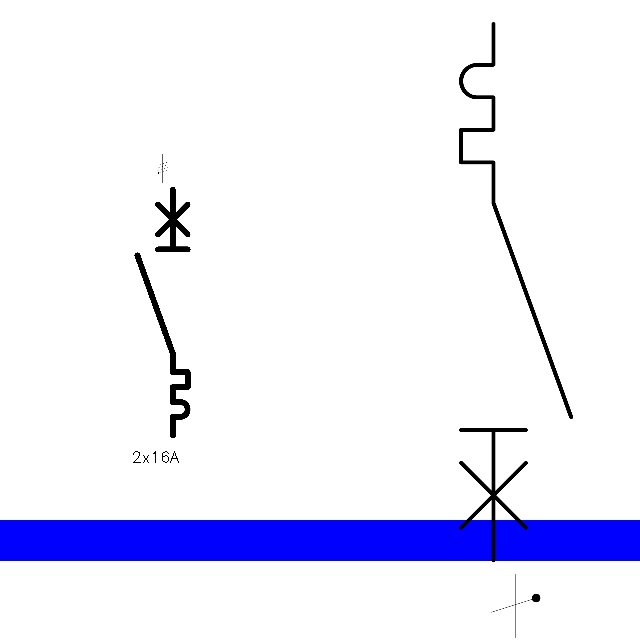interruptor_termomagnetico: (447, 10, 585, 574), (131, 183, 194, 441)
